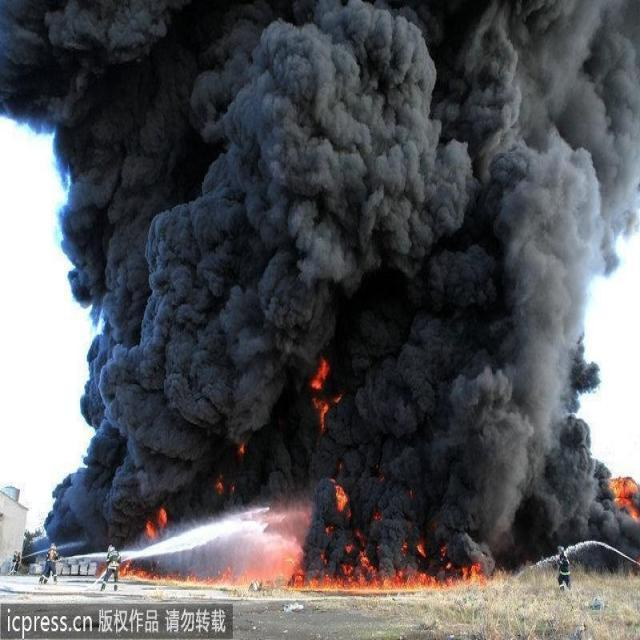Fire: (283, 477, 489, 592), (118, 558, 235, 588), (310, 355, 342, 433), (608, 476, 640, 520), (143, 507, 167, 540)
Smoke: (1, 1, 640, 584)
